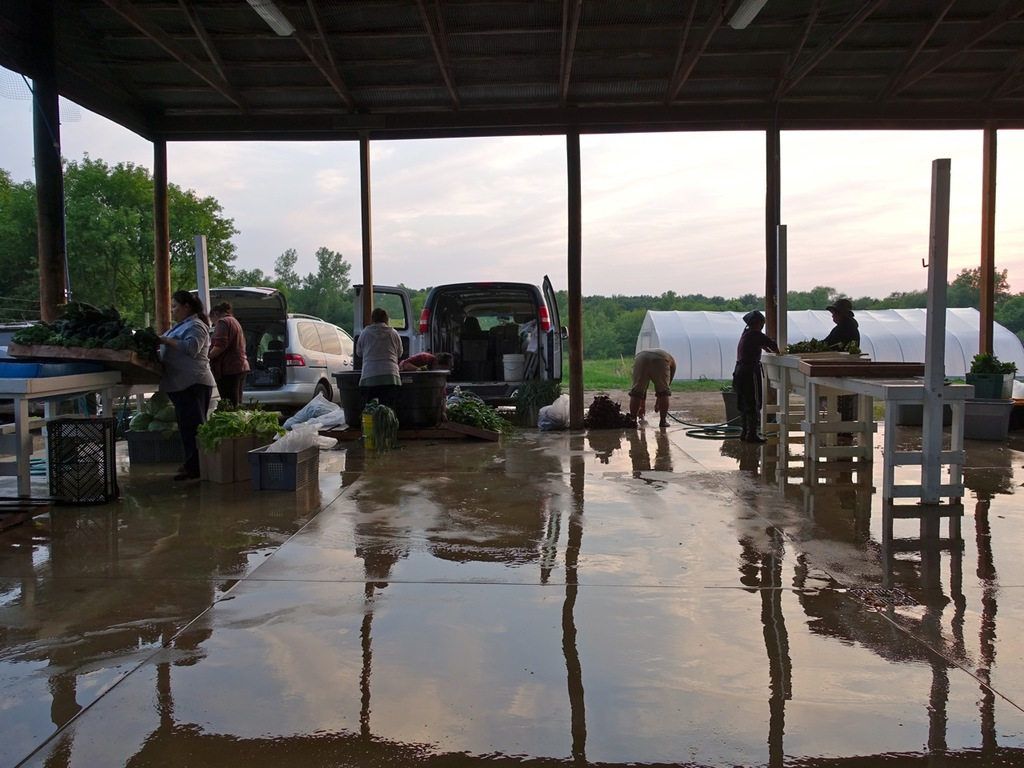Car: (371, 274, 571, 405), (188, 285, 359, 406), (98, 332, 218, 420), (0, 312, 45, 420)
